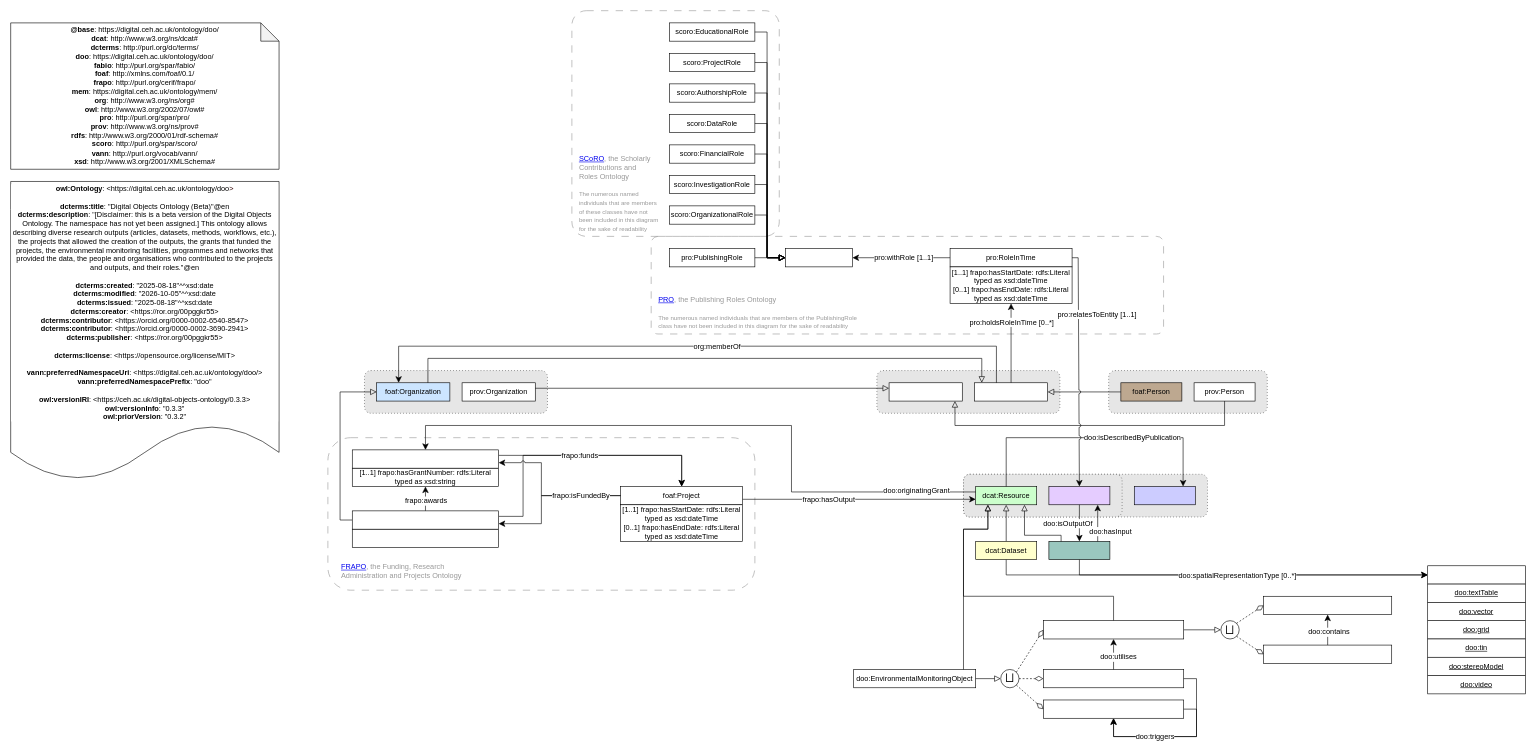
This 1536x753 diagram has some shape labels left out. Here are the shapes that lost their labels. From the top down, the centre of each, then its label:
At (818,257): "pro:Role".
At (925,391): "prov:Agent".
At (1011,391): "foaf:Agent".
At (425,458): "frapo:Grant".
At (1079,495): "prov:Entity".
At (1164,495): "fabio:Expression".
At (425,519): "frapo:FundingAgency".
At (425,538): "[1..1] frapo:hasFunderIdentifier: rdfs:Literal typed as xsd:anyURI".
At (1079,550): "mem:Method".
At (1476,574): "doo:SpatialRepresentation".
At (1327,605): "doo:EnvironmentalMonitoringFacility".
At (1113,629): "doo:EnvironmentalMonitoringFeature".
At (1327,653): "doo:EnvironmentalMonitoringNetwork".
At (1113,678): "doo:EnvironmentalMonitoringProgramme".
At (1113,708): "doo:EnvironmentalMonitoringActivity".
